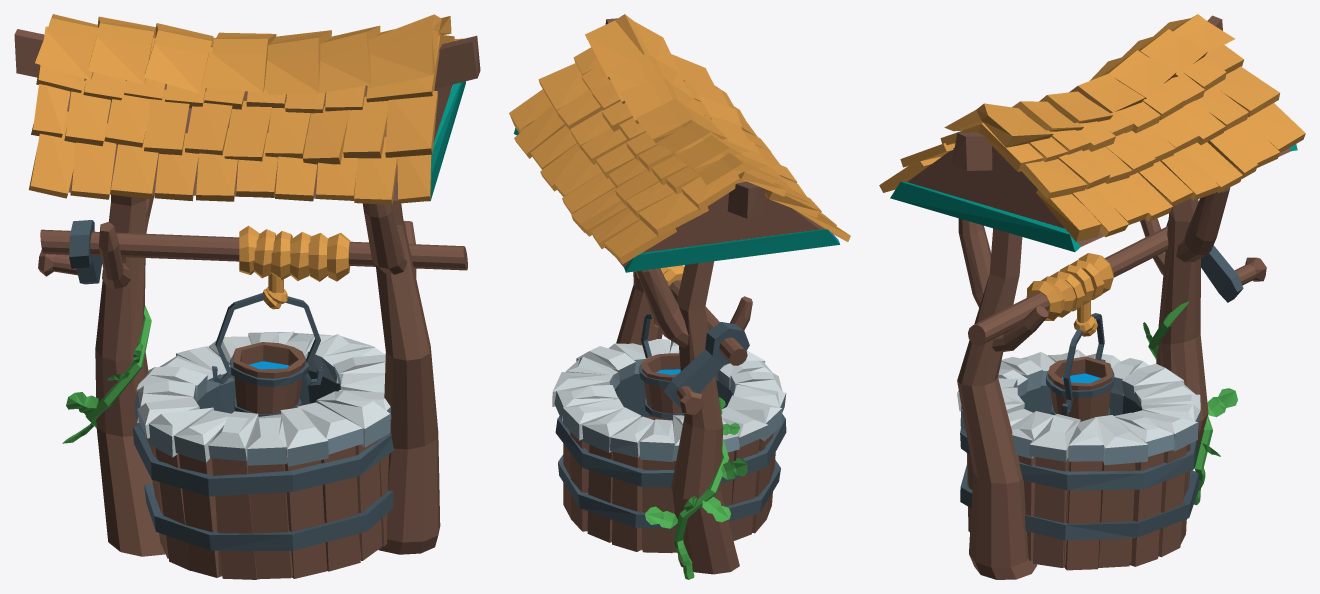
File: well-optimized.glb
3 renders of one model, left to right at view 1: azimuth 30°, elevation 25°; view 2: azimuth 150°, elevation 25°; view 3: azimuth 270°, elevation 25°, orthographic. The views are drawn at different scales.
Parts seen in each view (by area): view 1: group1784896143, group1816269119, group1378999907, group1463751419, group712474116, group784225283, group819284552, group904038137, group543979763, group1636832775, group156962315, group1713935403 (+40 smaller); view 2: group1784896143, group1378999907, group1984699503, group784225283, group511529357, group1463751419, group156962315, group904038137, group543979763, group1433549866, group1816269119, group1431829128 (+39 smaller); view 3: group1784896143, group1816269119, group1984699503, group1378999907, group1463751419, group712474116, group784225283, group819284552, group1636832775, group1433549866, group2070421578, group852939806 (+38 smaller).
Part boxes in pixels (x1=…): group1784896143: x1=133, y1=331, x2=393, y2=579; group1816269119: x1=362, y1=200, x2=440, y2=554; group1378999907: x1=95, y1=194, x2=165, y2=556; group1463751419: x1=212, y1=293, x2=323, y2=416; group712474116: x1=40, y1=229, x2=467, y2=270; group784225283: x1=367, y1=14, x2=451, y2=88; group819284552: x1=144, y1=23, x2=213, y2=93; group904038137: x1=205, y1=32, x2=276, y2=92; group543979763: x1=264, y1=30, x2=331, y2=95; group1636832775: x1=88, y1=16, x2=155, y2=84; group156962315: x1=315, y1=25, x2=380, y2=93; group1713935403: x1=385, y1=91, x2=437, y2=157; group1784896143: x1=552, y1=339, x2=786, y2=553; group1378999907: x1=637, y1=261, x2=752, y2=574; group1984699503: x1=513, y1=128, x2=839, y2=272; group784225283: x1=585, y1=14, x2=680, y2=79; group511529357: x1=664, y1=322, x2=749, y2=408; group1463751419: x1=639, y1=313, x2=683, y2=419; group156962315: x1=606, y1=53, x2=695, y2=103; group904038137: x1=635, y1=98, x2=727, y2=142; group543979763: x1=620, y1=76, x2=705, y2=123; group1433549866: x1=638, y1=192, x2=708, y2=236; group1816269119: x1=605, y1=247, x2=662, y2=419; group1431829128: x1=604, y1=220, x2=676, y2=264; group1784896143: x1=957, y1=349, x2=1200, y2=570; group1816269119: x1=957, y1=218, x2=1048, y2=579; group1984699503: x1=890, y1=144, x2=1297, y2=251; group1378999907: x1=1140, y1=187, x2=1230, y2=454; group1463751419: x1=1045, y1=313, x2=1114, y2=421; group712474116: x1=968, y1=226, x2=1168, y2=345; group784225283: x1=944, y1=103, x2=1053, y2=147; group819284552: x1=1090, y1=50, x2=1176, y2=98; group1636832775: x1=1122, y1=29, x2=1207, y2=77; group1433549866: x1=1214, y1=66, x2=1279, y2=116; group2070421578: x1=1021, y1=159, x2=1087, y2=198; group852939806: x1=1036, y1=189, x2=1101, y2=241.
Bounding box in the file's own units: 0.3997 × 0.4932 × 0.3919.
